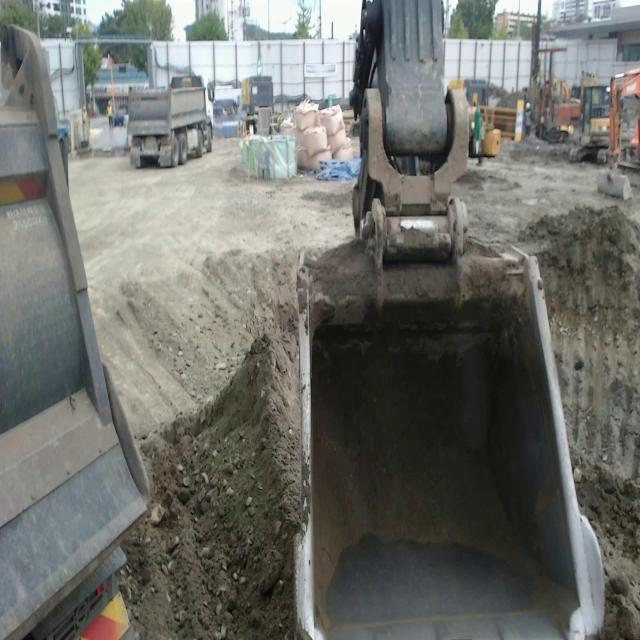red-sand: (70, 138, 353, 639), (456, 142, 640, 639), (250, 392, 256, 400)
